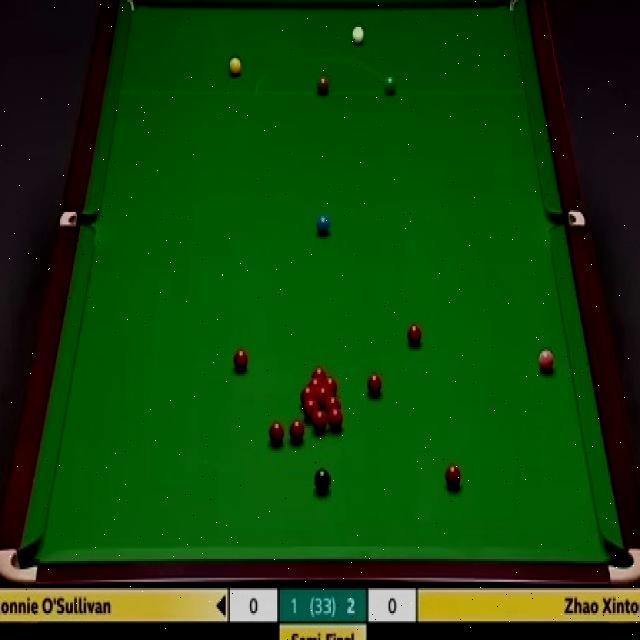black-ball: (314, 468, 331, 493)
blue-ball: (316, 213, 331, 237)
brown-ball: (317, 76, 330, 96)
green-ball: (384, 74, 396, 94)
pink-ball: (537, 348, 556, 377)
red-ball: (445, 463, 462, 490), (406, 324, 423, 350), (366, 372, 382, 398), (232, 348, 248, 373), (312, 408, 328, 432), (328, 406, 343, 431), (271, 419, 287, 442), (289, 420, 304, 444), (321, 377, 338, 394), (303, 399, 318, 418), (324, 396, 341, 410), (315, 387, 331, 401), (300, 386, 316, 399), (311, 366, 328, 377), (308, 377, 325, 386)
white-ball: (351, 21, 366, 45)
yellow-ball: (230, 56, 242, 79)
